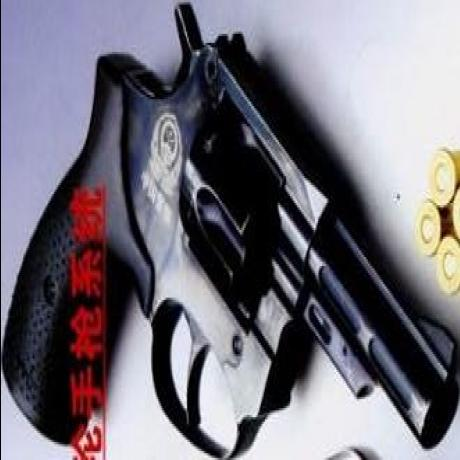weapon: (4, 12, 452, 452)
